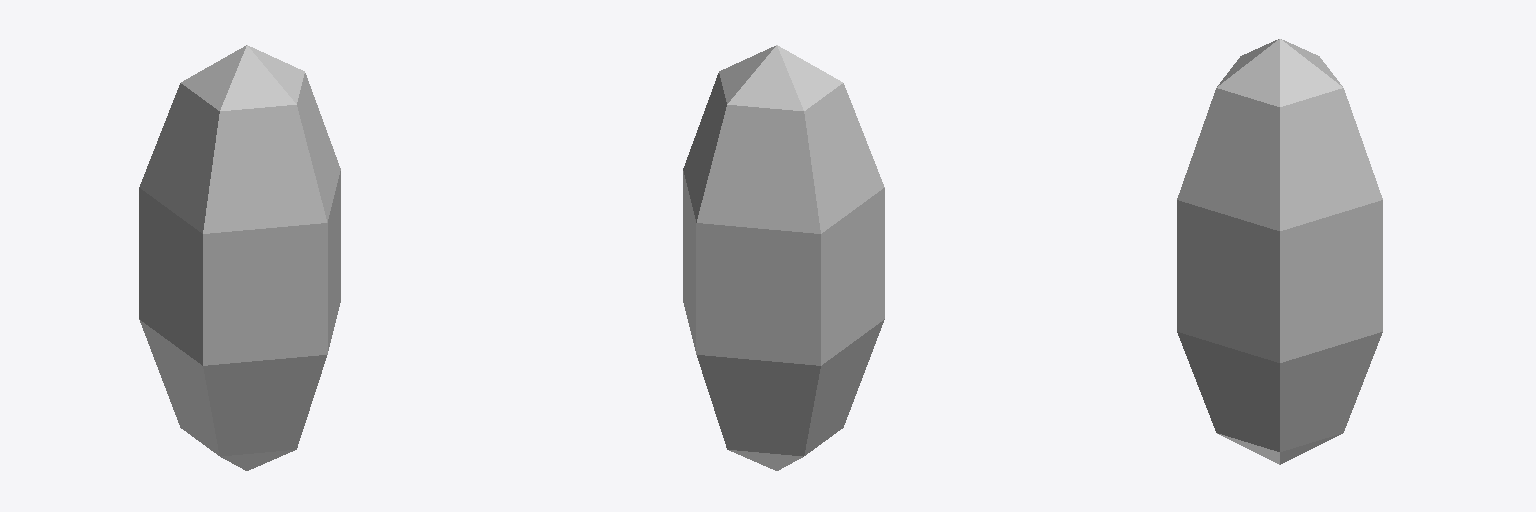
The model's file is bullet.obj.
3 views of the same model, side by side, from view 1: azimuth 30°, elevation 25°; view 2: azimuth 150°, elevation 25°; view 3: azimuth 270°, elevation 25° (orthographic).
Parts seen in each view (by area): view 1: Sphere_Sphere.004; view 2: Sphere_Sphere.004; view 3: Sphere_Sphere.004.
Boxes of the visible parts, <box> form: Sphere_Sphere.004: <box>139,45,340,470</box>; Sphere_Sphere.004: <box>683,45,884,470</box>; Sphere_Sphere.004: <box>1177,39,1382,464</box>.
Bounding box in the file's own units: 1.72 × 4.13 × 1.81.